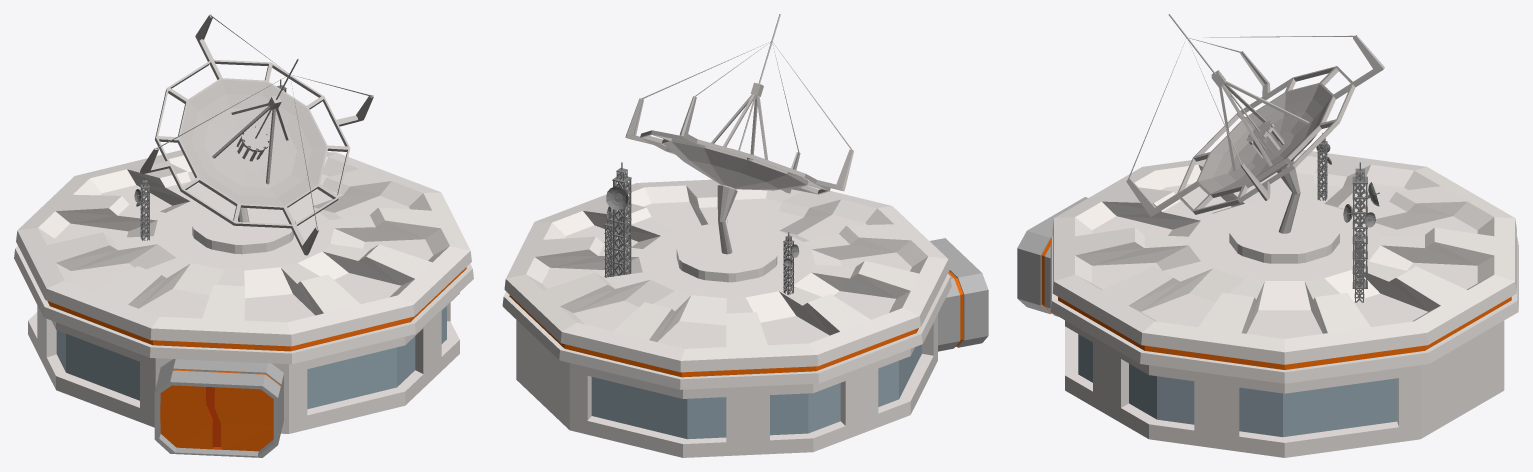
Rendered from Mars-One_Radar_communication.FBX.
3 views of the same model, side by side, from view 1: azimuth 30°, elevation 25°; view 2: azimuth 150°, elevation 25°; view 3: azimuth 270°, elevation 25° (orthographic). The views are drawn at different scales.
Parts seen in each view (by area): view 1: Object006; view 2: Object006; view 3: Object006.
Part boxes in pixels (left/top/right/bottom): Object006: left=14, top=14, right=473, bottom=457; Object006: left=502, top=14, right=988, bottom=457; Object006: left=1017, top=14, right=1518, bottom=457.
Bounding box in the file's own units: 4.66 × 3.61 × 4.75.
Materials: 1 (1 with a texture image).
